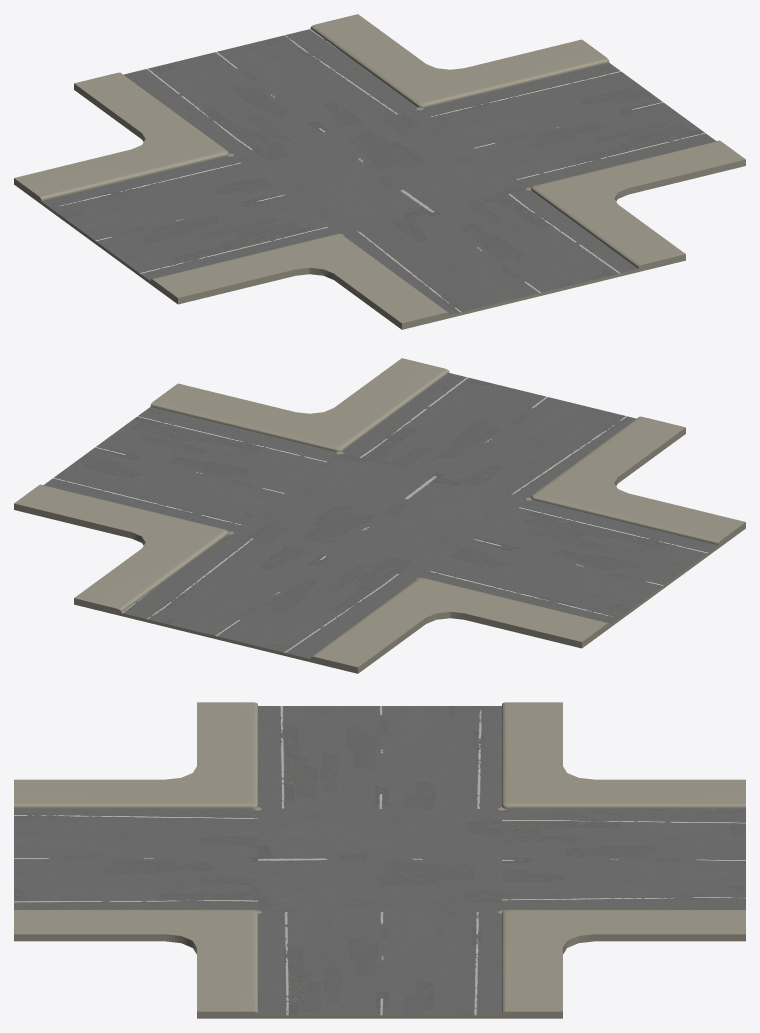
File: Cross_Junction.fbx
The picture shows the model from 3 angles, top to bottom: view 1: azimuth 30°, elevation 25°; view 2: azimuth 150°, elevation 25°; view 3: azimuth 270°, elevation 25°; orthographic projection. The views are drawn at different scales.
Parts seen in each view (by area): view 1: Cross_Junction; view 2: Cross_Junction; view 3: Cross_Junction.
Boxes of the visible parts, <box> form: Cross_Junction: <box>14,14,745,329</box>; Cross_Junction: <box>14,358,745,673</box>; Cross_Junction: <box>14,702,745,1018</box>.
Bounding box in the file's own units: 36 × 0.3911 × 36.
